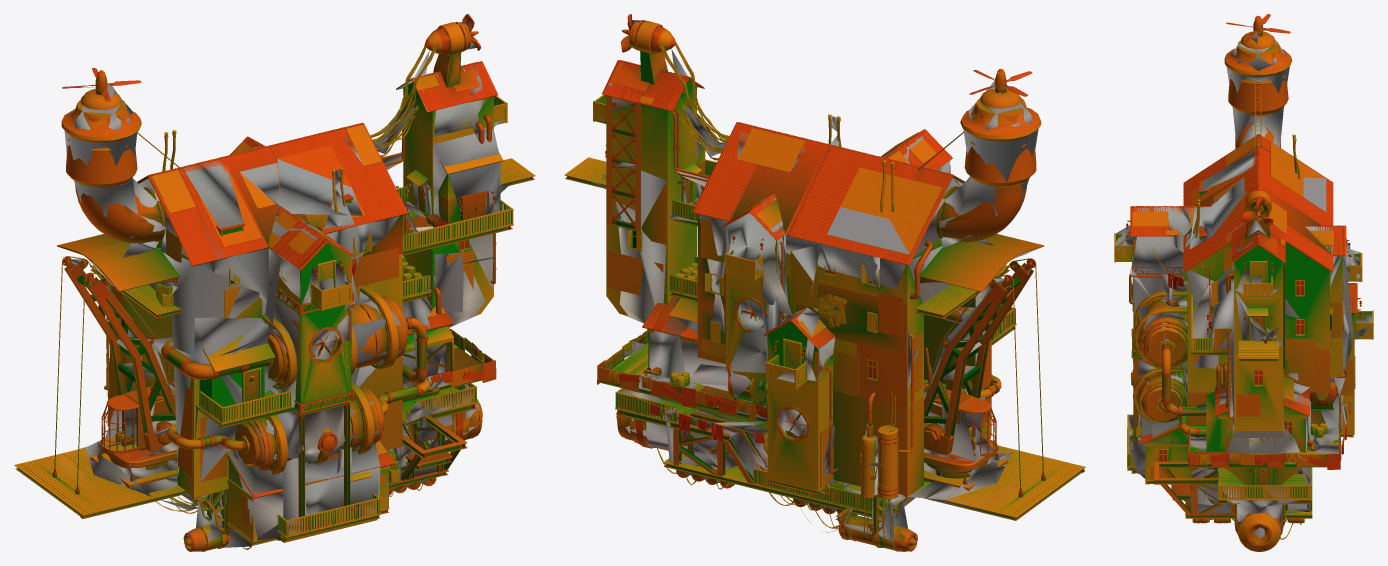
File: KB3D_CSK_BldgMdResClusterB_A.glb
3 views of the same model, side by side, from view 1: azimuth 30°, elevation 25°; view 2: azimuth 150°, elevation 25°; view 3: azimuth 270°, elevation 25° (orthographic). The views are drawn at different scales.
Parts seen in each view (by area): view 1: L0, L2, L1; view 2: L0, L2, L1; view 3: L0, L2, L1.
Boxes of the visible parts, x1,y1,x2,y2 form: L0: (14,14,535,551); L2: (58,21,512,547); L1: (57,14,495,551); L0: (564,14,1085,551); L2: (587,20,1040,542); L1: (604,16,1042,551); L0: (1114,14,1373,551); L2: (1116,29,1371,537); L1: (1129,15,1356,546).
Size of the model in its own units: 34.5 by 33.55 by 19.35.
